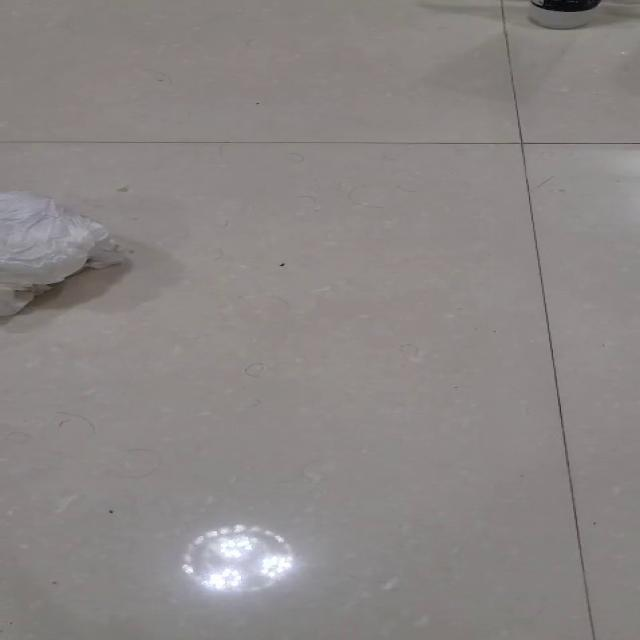plastic: (0, 189, 125, 316)
